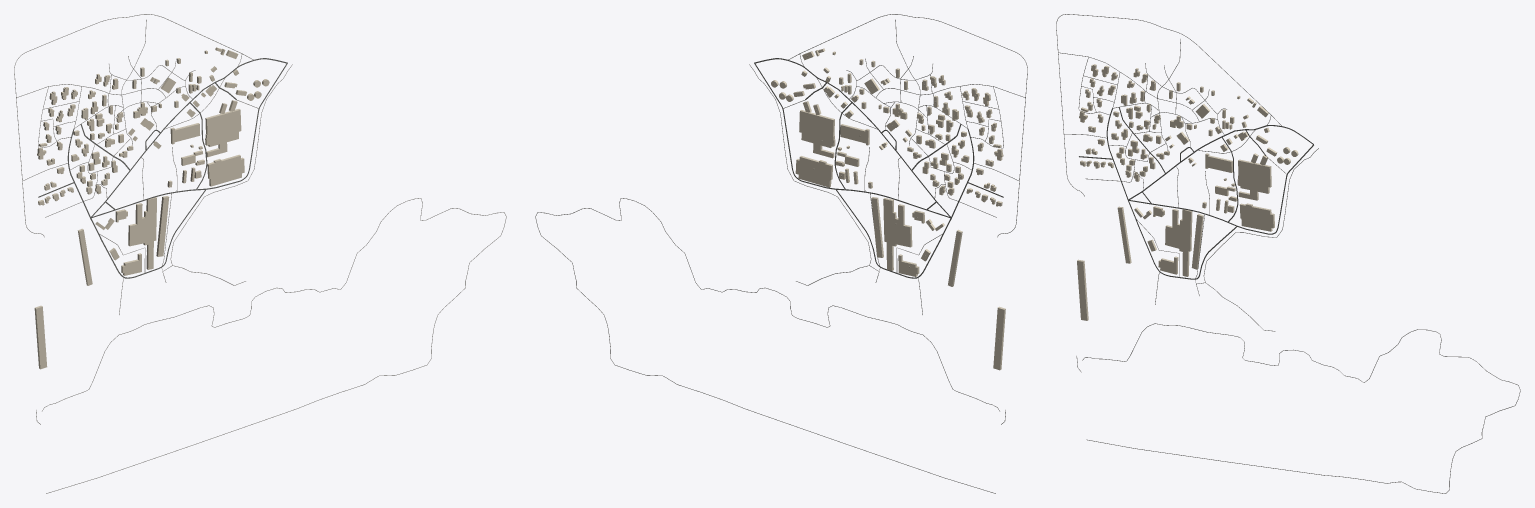
File: historic-palestine-14_31_3555_3258.glb
3 renders of one model, left to right at view 1: azimuth 30°, elevation 25°; view 2: azimuth 150°, elevation 25°; view 3: azimuth 330°, elevation 25°, orthographic. The views are drawn at different scales.
Parts seen in each view (by area): view 1: Building_.102, Road .049, Building_.002, Building_.103, Road .012, Building_; view 2: Building_.102, Road .049, Building_.002, Building_.103, Road .012, Building_; view 3: Road .049, Building_.102, Building_.002, Building_.103, Road .012, Building_.
Part boxes in pixels (box(x1,y1,x2,y2)): Building_.102: box(205, 109, 241, 157); Road .049: box(42, 198, 506, 493); Building_.002: box(128, 197, 156, 246); Building_.103: box(207, 154, 244, 186); Road .012: box(90, 63, 287, 278); Building_: box(34, 305, 47, 369); Building_.102: box(799, 110, 835, 158); Road .049: box(535, 198, 999, 493); Building_.002: box(883, 198, 912, 247); Building_.103: box(795, 156, 832, 187); Road .012: box(754, 63, 951, 278); Building_: box(993, 306, 1005, 370); Road .049: box(1082, 323, 1520, 493); Building_.102: box(1237, 159, 1271, 200); Building_.002: box(1165, 209, 1192, 251); Building_.103: box(1239, 203, 1274, 231); Road .012: box(1128, 145, 1313, 279); Building_: box(1077, 259, 1088, 320).
Bounding box in the file's own units: 1430 × 1275 × 8.7.
